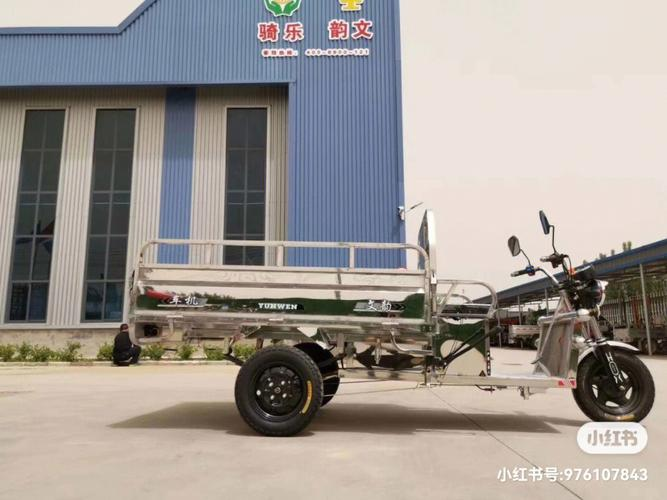empty: (118, 187, 661, 430)
